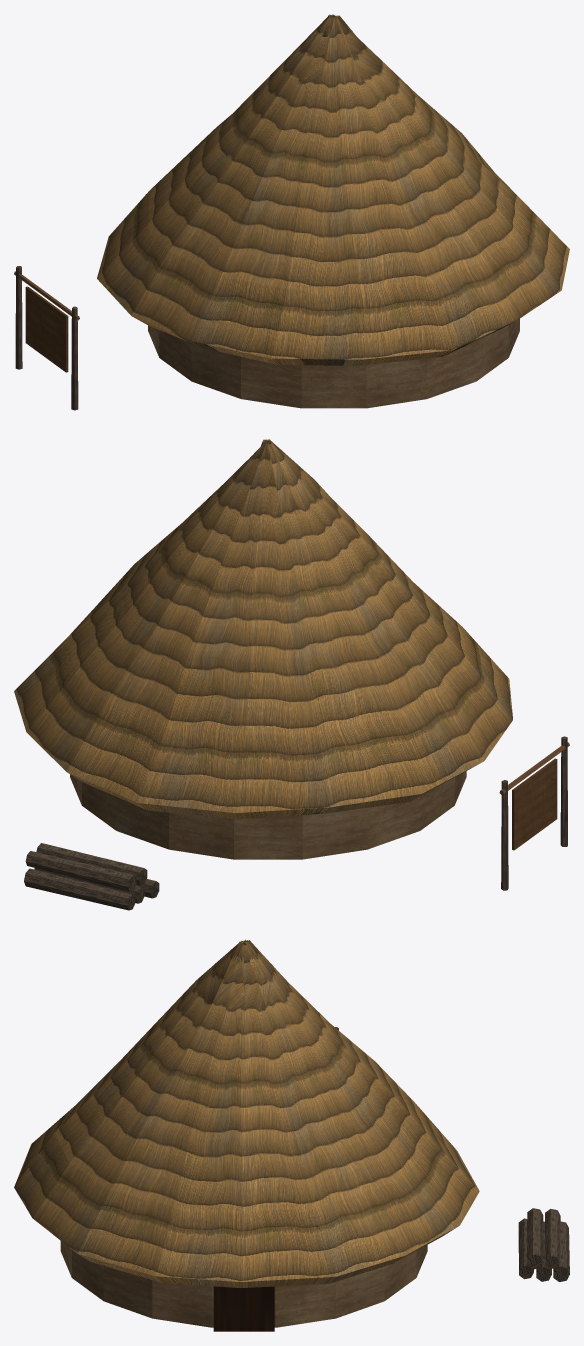
File: capanna_tonda_b.glb
The picture shows the model from 3 angles, top to bottom: view 1: azimuth 30°, elevation 25°; view 2: azimuth 150°, elevation 25°; view 3: azimuth 270°, elevation 25°; orthographic projection. The views are drawn at different scales.
Parts seen in each view (by area): view 1: capanna_tonda_b; view 2: capanna_tonda_b; view 3: capanna_tonda_b.
Boxes of the visible parts, left/top/right/bottom form: capanna_tonda_b: left=14, top=14, right=569, bottom=410; capanna_tonda_b: left=14, top=439, right=569, bottom=910; capanna_tonda_b: left=14, top=939, right=569, bottom=1331.
Size of the model in its own units: 8.8 by 5.7 by 9.1.
Materials: 6 (6 with a texture image).
